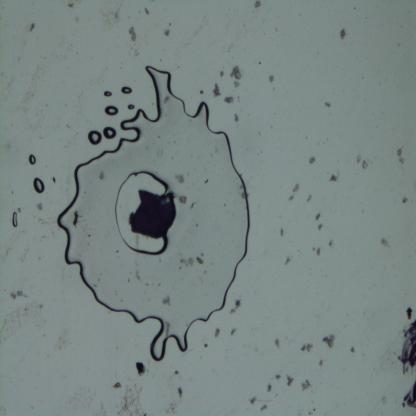Air bubble: (55, 66, 251, 363), (115, 168, 169, 254), (23, 301, 49, 329), (86, 127, 102, 147), (32, 177, 46, 195), (102, 126, 116, 140), (104, 104, 120, 116), (11, 212, 20, 228), (28, 152, 36, 166), (104, 90, 112, 98), (199, 90, 204, 95)
Background material: (119, 382, 147, 416), (0, 303, 23, 340), (187, 13, 208, 46), (132, 359, 151, 382), (55, 328, 71, 350), (101, 8, 115, 33), (164, 397, 180, 416), (178, 252, 196, 268), (326, 168, 341, 183), (229, 300, 243, 315), (230, 66, 242, 83), (322, 334, 336, 348), (173, 171, 186, 186), (20, 244, 30, 263), (11, 289, 28, 300), (356, 155, 368, 170), (132, 266, 142, 284), (396, 148, 406, 166), (72, 208, 82, 226), (128, 25, 138, 43), (300, 379, 314, 391), (379, 237, 392, 249), (213, 82, 222, 99), (159, 295, 172, 306), (178, 193, 188, 207), (38, 216, 49, 228), (301, 342, 314, 352), (405, 306, 413, 321), (286, 373, 294, 388), (164, 322, 171, 338), (96, 171, 106, 182), (224, 96, 235, 106), (339, 27, 347, 40), (121, 85, 132, 94), (196, 253, 203, 267), (126, 102, 136, 111), (214, 327, 221, 339), (274, 337, 281, 349), (292, 184, 300, 194), (258, 404, 268, 412), (266, 382, 274, 392), (314, 212, 322, 222), (227, 43, 234, 54), (230, 326, 237, 337), (284, 255, 290, 267), (307, 408, 316, 416), (309, 155, 316, 165), (328, 238, 334, 249), (113, 380, 121, 388), (316, 223, 324, 231), (164, 30, 172, 38), (249, 396, 257, 404), (402, 196, 410, 204), (234, 95, 241, 104), (254, 0, 261, 9), (233, 113, 240, 122), (144, 6, 150, 16), (268, 74, 274, 84), (132, 48, 139, 56), (36, 203, 43, 211), (288, 194, 295, 202), (306, 193, 312, 202), (30, 23, 36, 32), (16, 206, 22, 215), (74, 16, 80, 25), (318, 358, 323, 368), (178, 388, 182, 400), (68, 0, 74, 8), (324, 101, 332, 107), (164, 96, 170, 104), (316, 248, 322, 256), (381, 396, 387, 404), (114, 12, 119, 20), (350, 346, 356, 352), (281, 229, 285, 238), (275, 374, 281, 380), (220, 69, 224, 77), (203, 344, 208, 349), (274, 27, 278, 33), (53, 176, 56, 184), (312, 246, 316, 252), (37, 256, 41, 261), (169, 21, 172, 27), (397, 42, 401, 46), (175, 370, 179, 374), (128, 14, 130, 20), (258, 62, 262, 64)
Fragment: (132, 184, 180, 242)
Pen: (396, 321, 416, 407)
